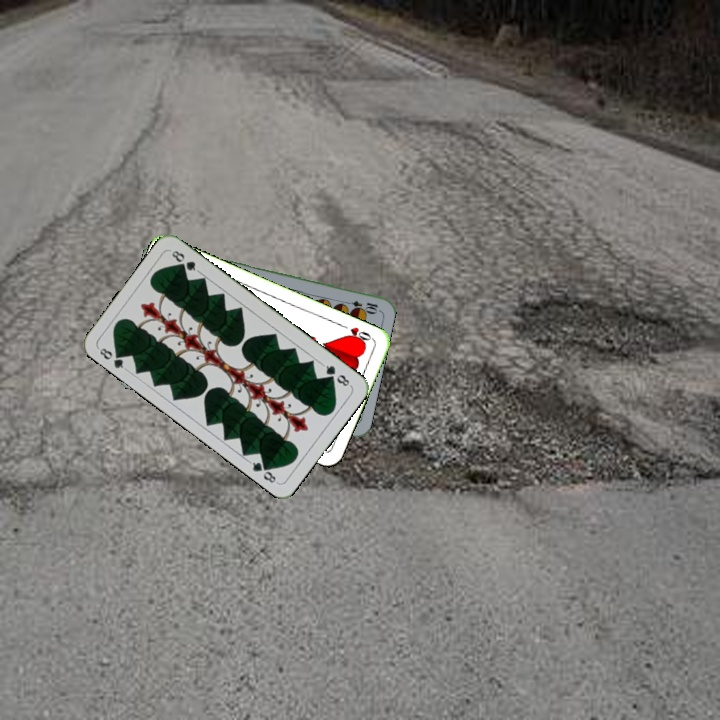E10: (340, 296, 380, 314)
G8: (318, 360, 354, 389), (96, 344, 129, 373)
HO: (337, 320, 375, 347)
